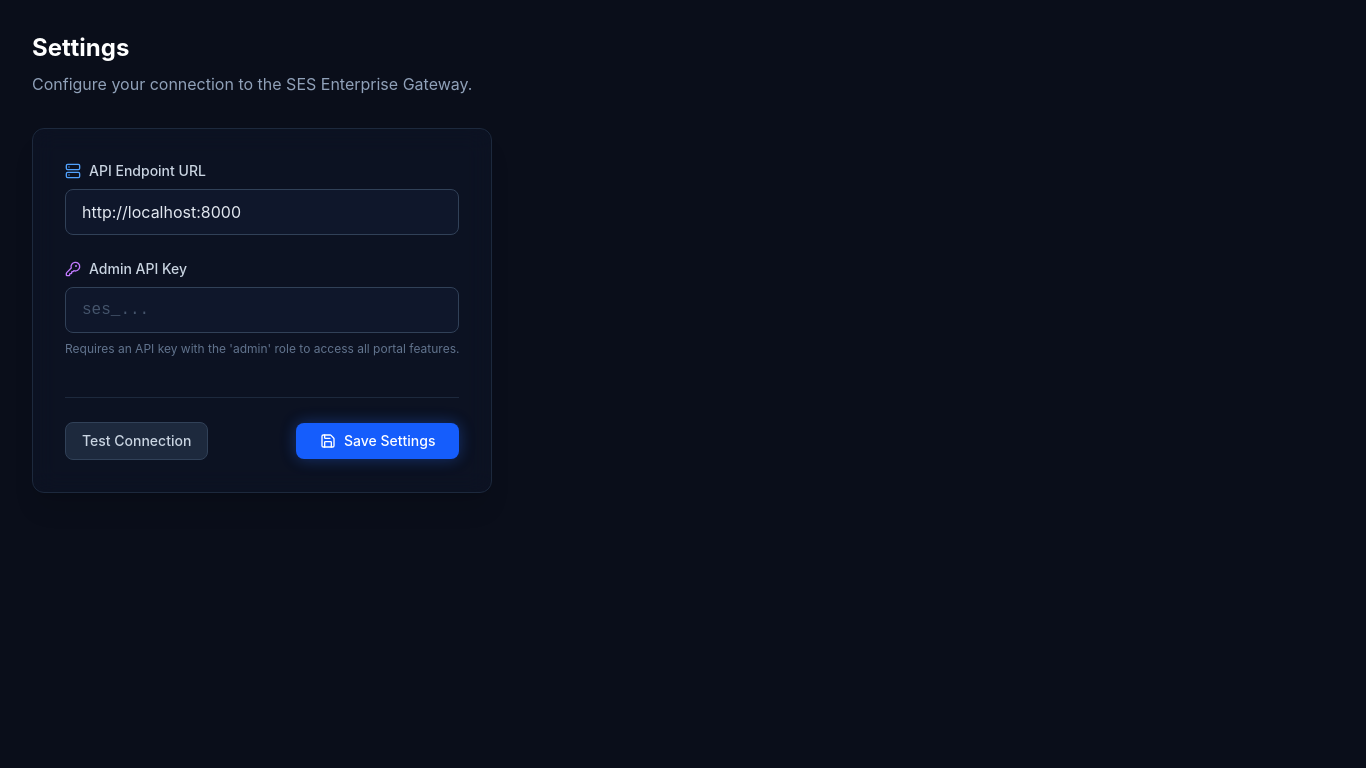
Scenario: SettingsPage › tests connection and displays connected status on success
This screenshot has width=1366, height=768.
Click the button "Test Connection" at coordinates (137, 441), box [65, 422, 208, 460]
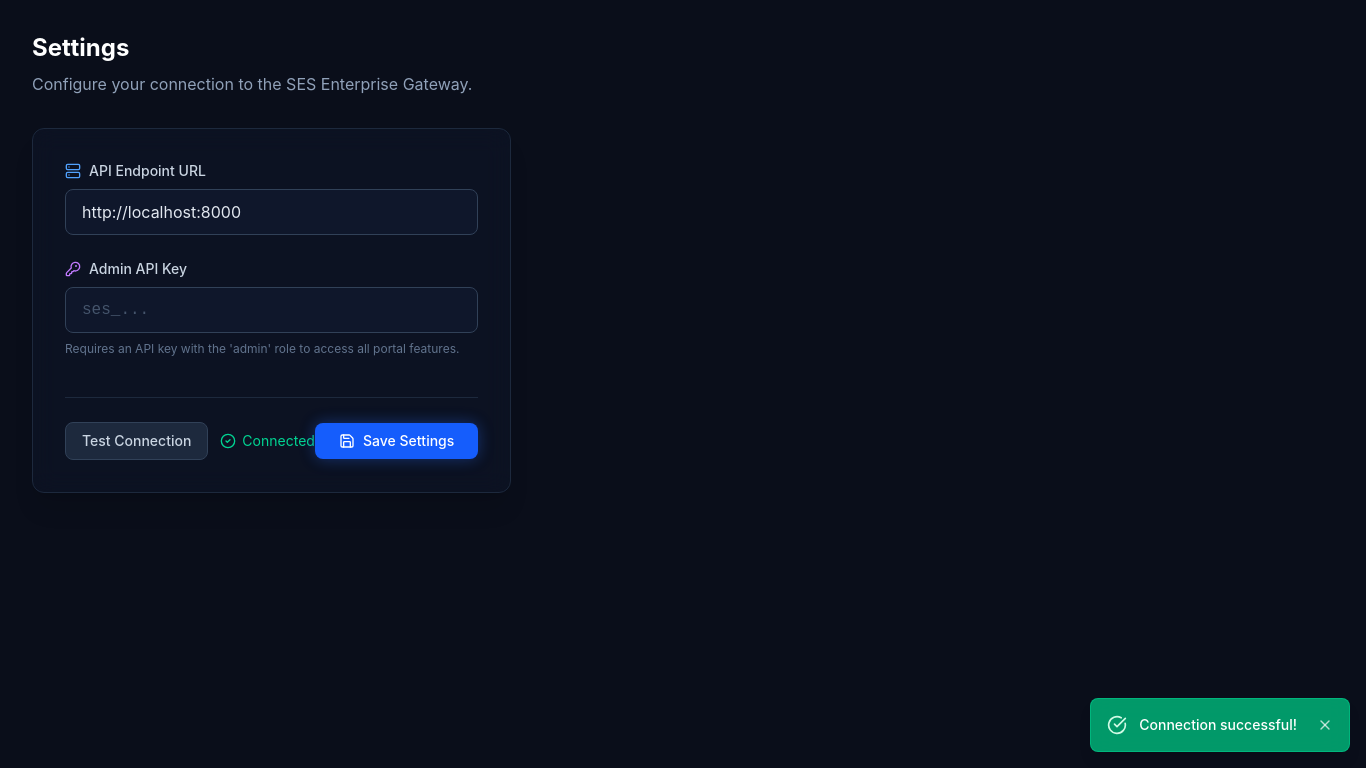
Result: the text "Connected" is shown at [242, 432, 315, 449]
